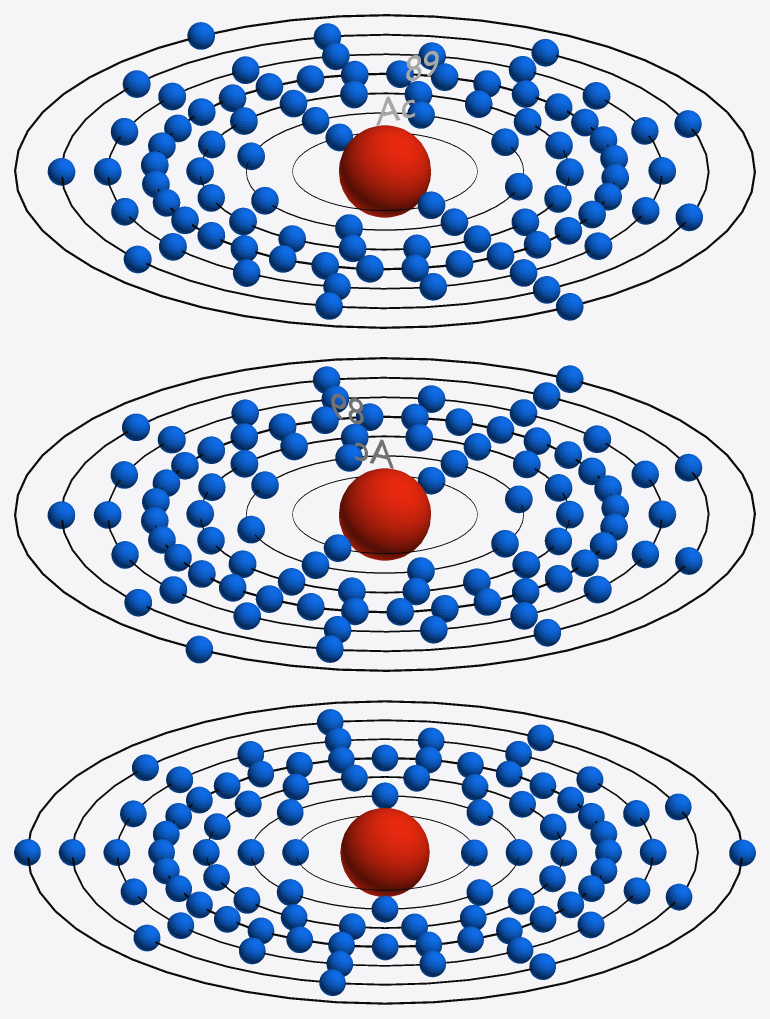
3 views of the same model, one above another, from view 1: azimuth 30°, elevation 25°; view 2: azimuth 150°, elevation 25°; view 3: azimuth 270°, elevation 25° (orthographic). The views are drawn at different scales.
Visible parts, largest first — view 1: Ac4, Ac5, Ac3, Proton, Ac6, Ac2, n7, n6, n5, Ac7, Ac1, n3 (+2 smaller); view 2: Ac4, Ac3, Ac5, Proton, Ac6, Ac2, n7, n6, n5, Ac7, Ac1, n3 (+2 smaller); view 3: Ac4, Ac3, Ac5, Proton, Ac6, Ac2, n7, n6, n5, Ac1, Ac7, n3 (+2 smaller).
Boxes of the visible parts, left/top/right/bottom form: Ac4: left=141, top=60, right=628, bottom=282; Ac5: left=94, top=42, right=675, bottom=300; Ac3: left=186, top=80, right=583, bottom=261; Proton: left=339, top=125, right=430, bottom=217; Ac6: left=47, top=23, right=702, bottom=319; Ac2: left=237, top=101, right=532, bottom=239; n7: left=14, top=14, right=755, bottom=328; n6: left=61, top=33, right=709, bottom=309; n5: left=107, top=53, right=662, bottom=289; Ac7: left=187, top=22, right=583, bottom=320; Ac1: left=325, top=123, right=445, bottom=218; n3: left=200, top=92, right=569, bottom=250; Ac4: left=141, top=403, right=628, bottom=625; Ac3: left=186, top=423, right=583, bottom=605; Ac5: left=93, top=385, right=676, bottom=643; Proton: left=339, top=468, right=430, bottom=560; Ac6: left=47, top=366, right=702, bottom=662; Ac2: left=237, top=444, right=532, bottom=582; n7: left=14, top=357, right=755, bottom=671; n6: left=61, top=376, right=709, bottom=652; n5: left=107, top=396, right=662, bottom=632; Ac7: left=185, top=365, right=583, bottom=663; Ac1: left=323, top=467, right=445, bottom=561; n3: left=200, top=435, right=569, bottom=593; Ac4: left=148, top=744, right=621, bottom=960; Ac3: left=193, top=764, right=576, bottom=940; Ac5: left=103, top=727, right=666, bottom=977; Proton: left=340, top=808, right=429, bottom=896; Ac6: left=58, top=709, right=692, bottom=995; Ac2: left=237, top=782, right=532, bottom=922; n7: left=27, top=700, right=742, bottom=1004; n6: left=72, top=719, right=698, bottom=985; n5: left=117, top=738, right=652, bottom=966; Ac1: left=282, top=839, right=487, bottom=866; Ac7: left=14, top=839, right=755, bottom=866; n3: left=206, top=776, right=563, bottom=928.
Bounding box in the file's own units: 802 × 180 × 830.
